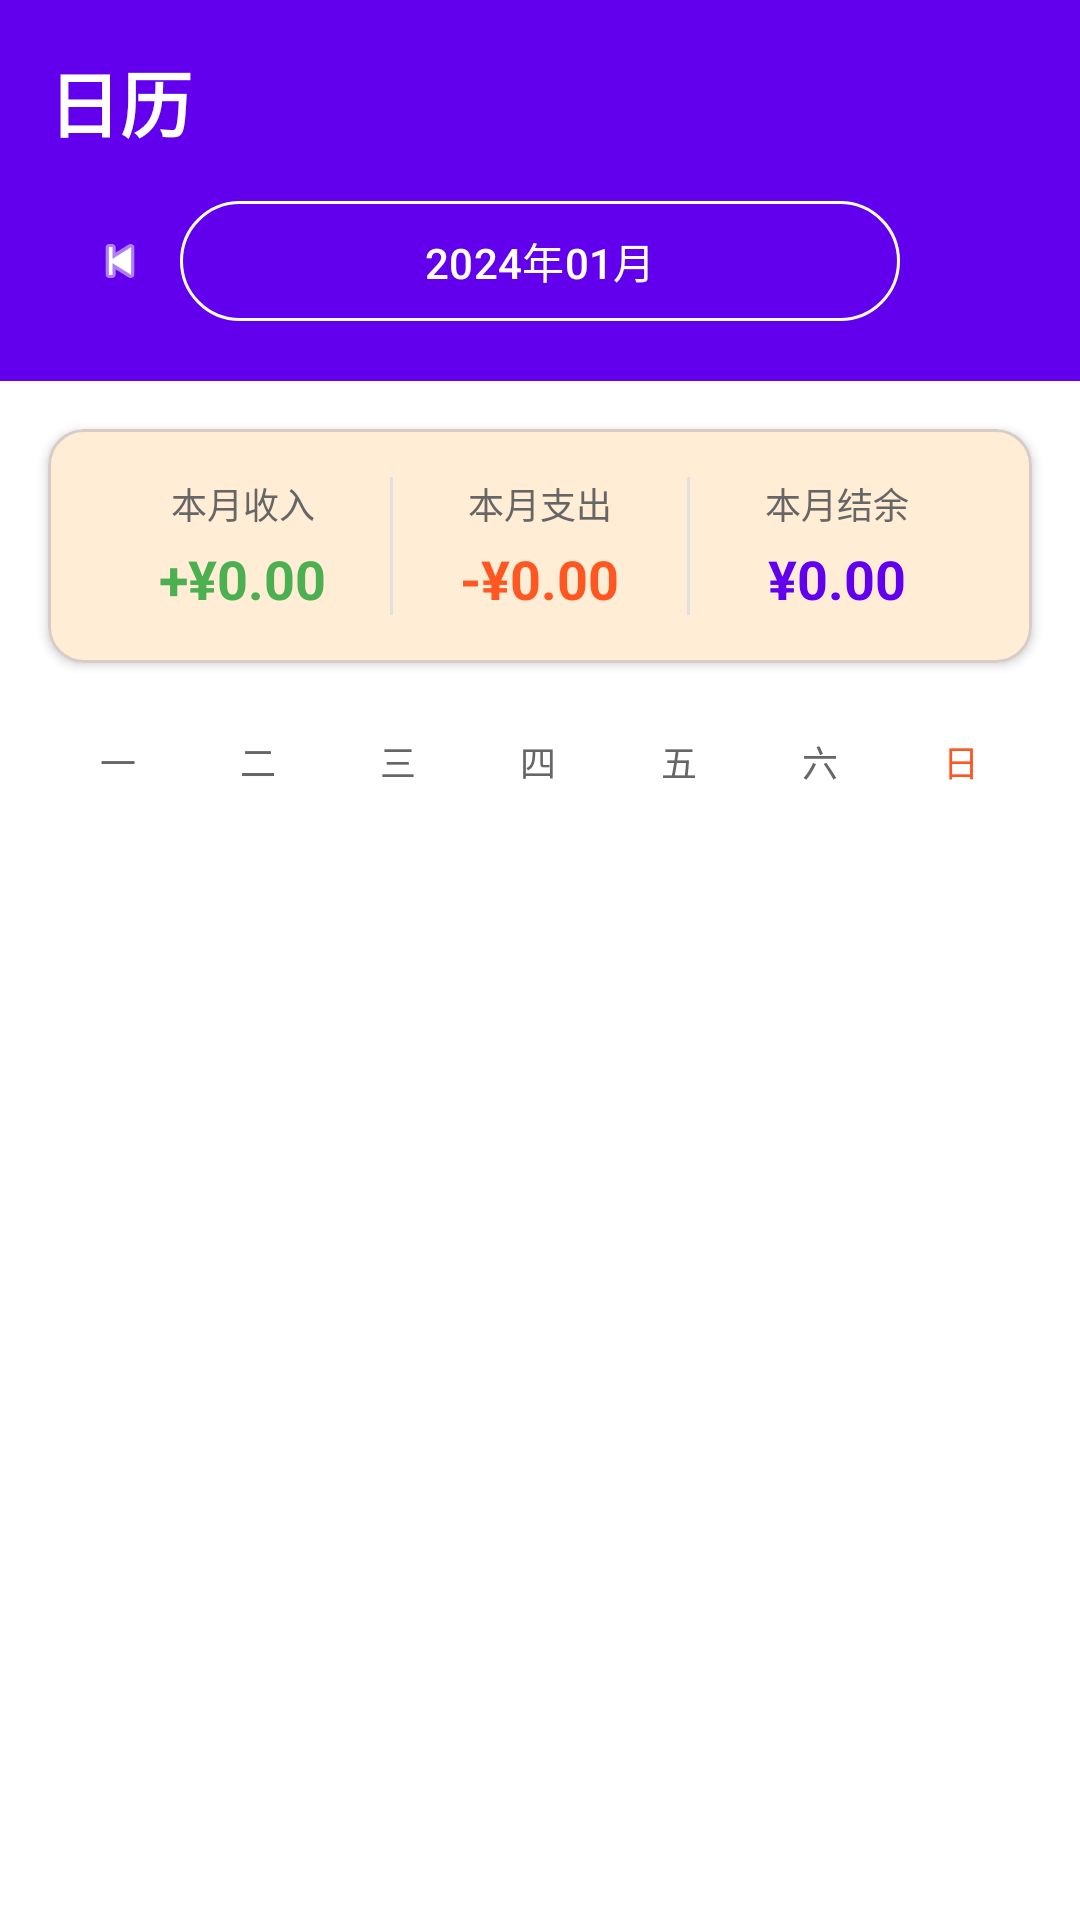

Where to tap for icons on this 1080×1920 app screen, as (x=x, y=y):
上一月: (x=120, y=261)
